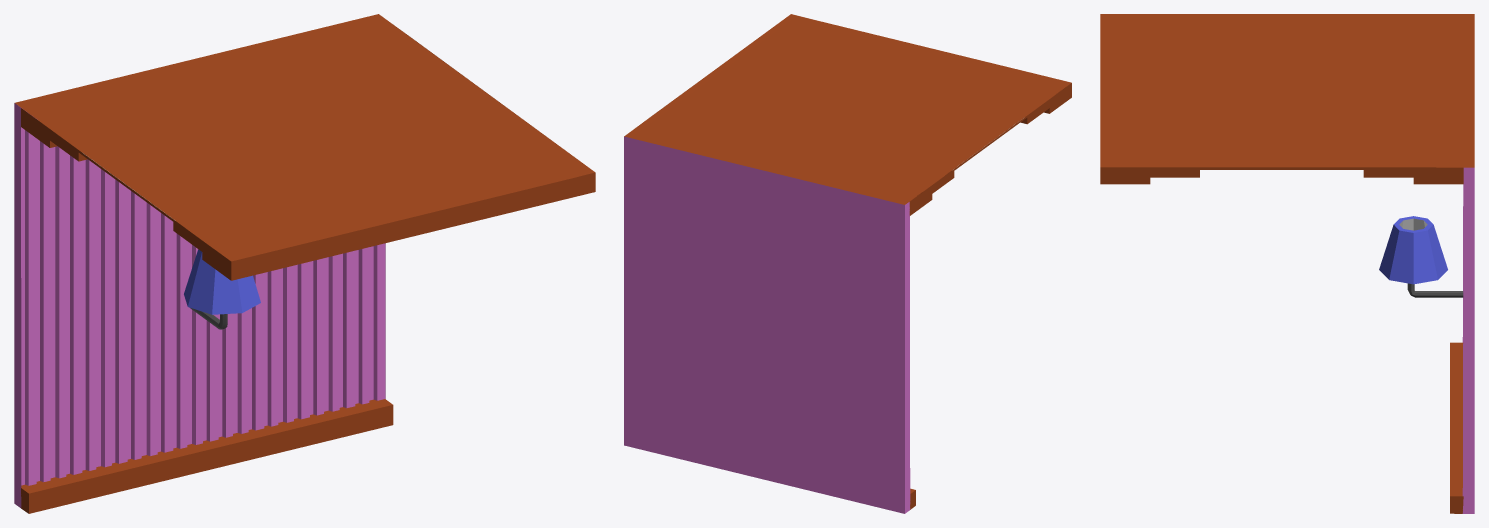
The model's file is T_chambres.fbx.
3 views of the same model, side by side, from view 1: azimuth 30°, elevation 25°; view 2: azimuth 150°, elevation 25°; view 3: azimuth 270°, elevation 25° (orthographic). The views are drawn at different scales.
Visible parts, largest first — view 1: T_chambres; view 2: T_chambres; view 3: T_chambres.
Boxes of the visible parts, x1,y1,x2,y2 form: T_chambres: (14,14,595,513); T_chambres: (624,14,1071,513); T_chambres: (1100,14,1474,513).
Size of the model in its own units: 600 by 631 by 618.
